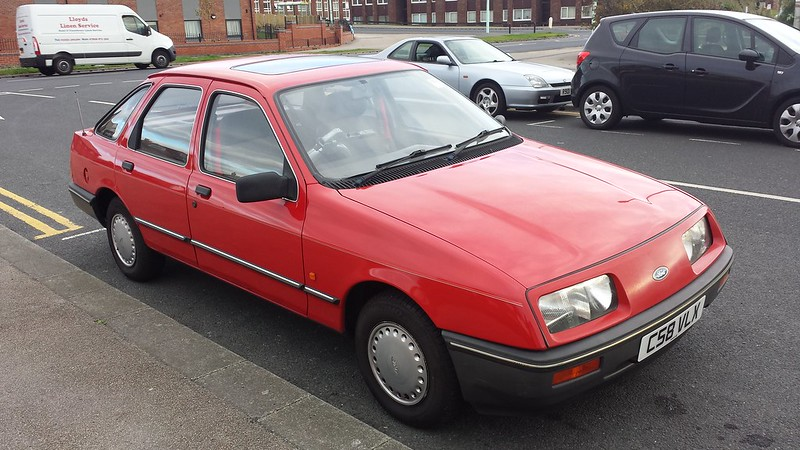number_plate: (634, 294, 732, 360)
